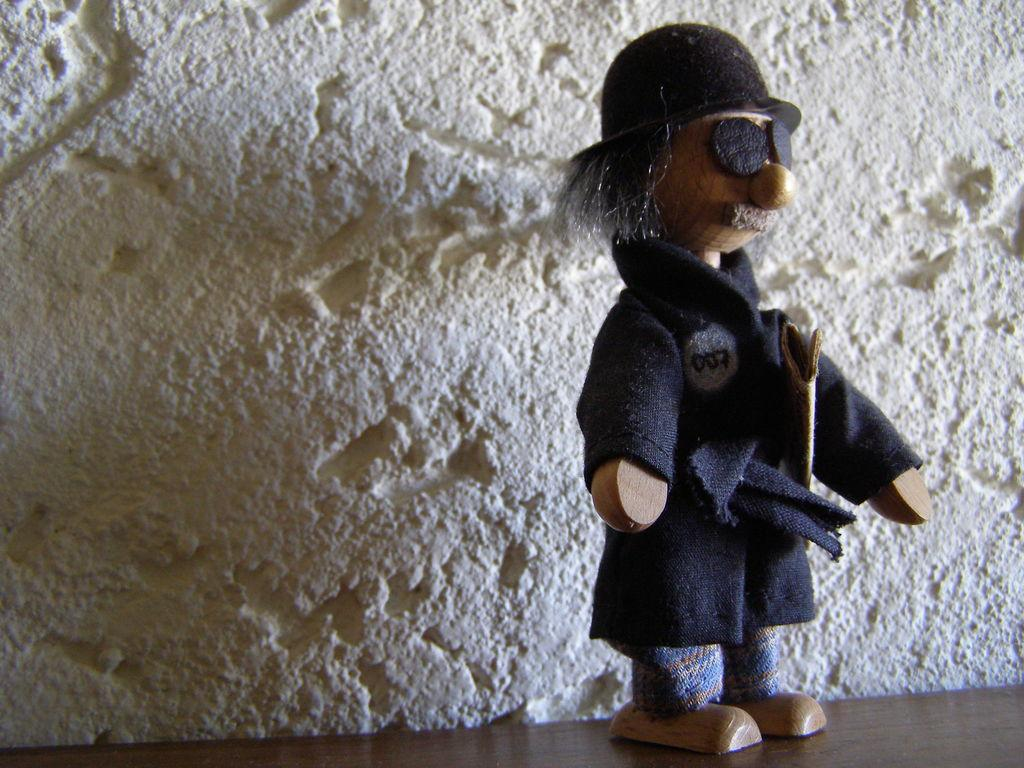Hat: (569, 22, 802, 164)
